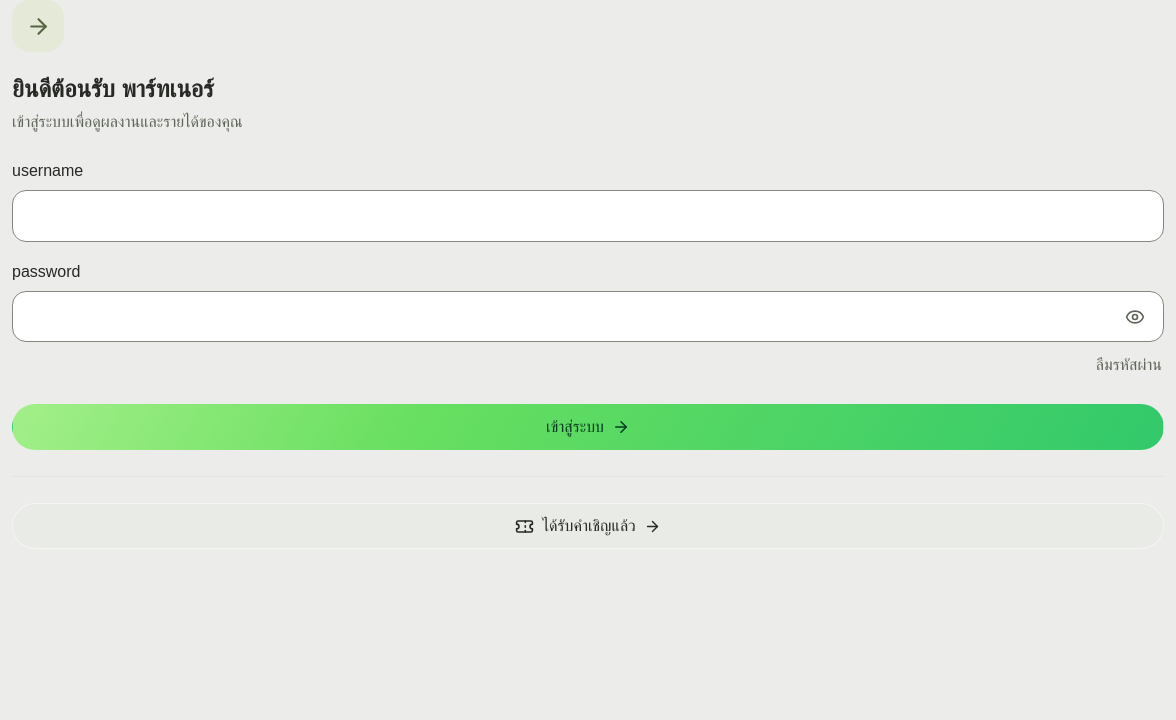
Test case: login and workspace theme defaults › resets to Day only after successful sign-in (success=false)
The width and height of the screenshot is (1176, 720).
Type "partner" into the field labelled "username". click: (588, 216)
box: left=12, top=190, right=1164, bottom=242
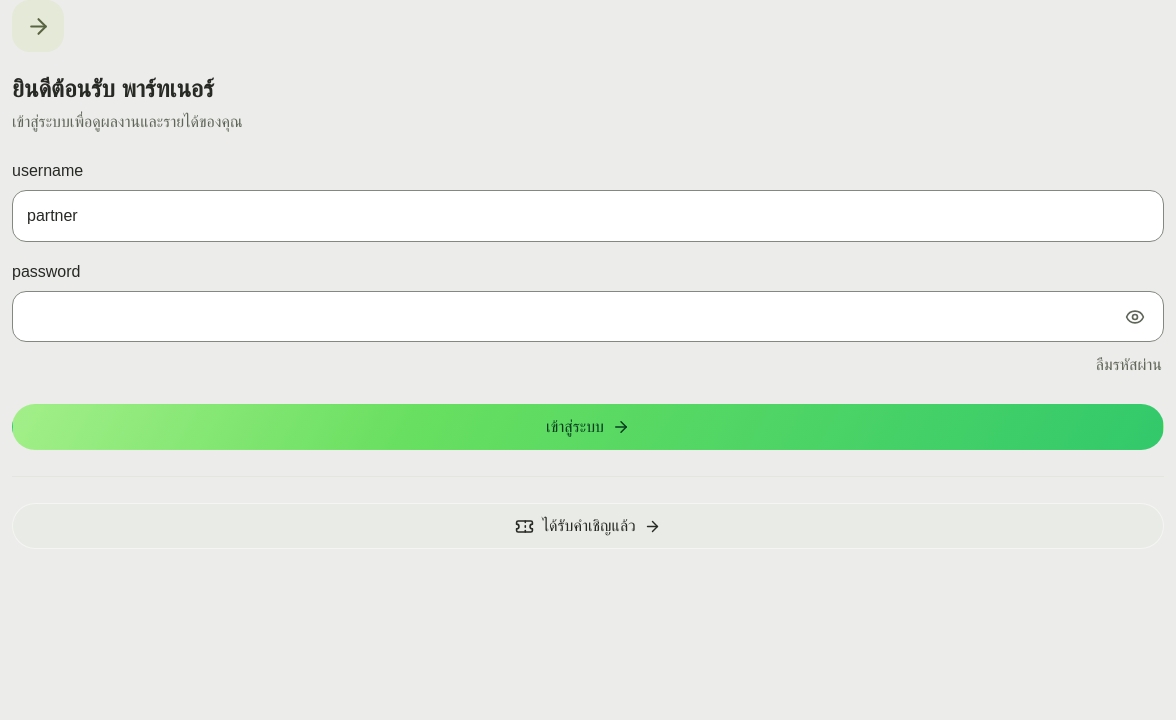
Type "test-password" into the password field labelled "password". click: (588, 317)
box: left=12, top=291, right=1164, bottom=342
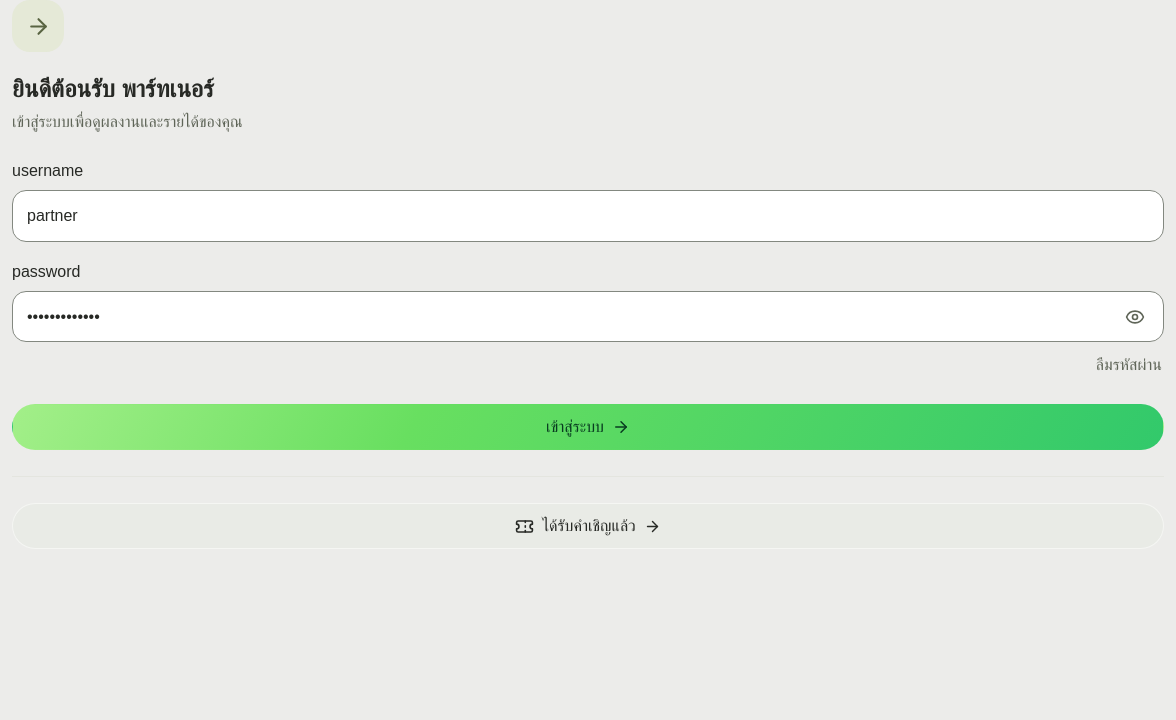
Submit the form "เข้าสู่ระบบ", box left=12, top=160, right=1164, bottom=450
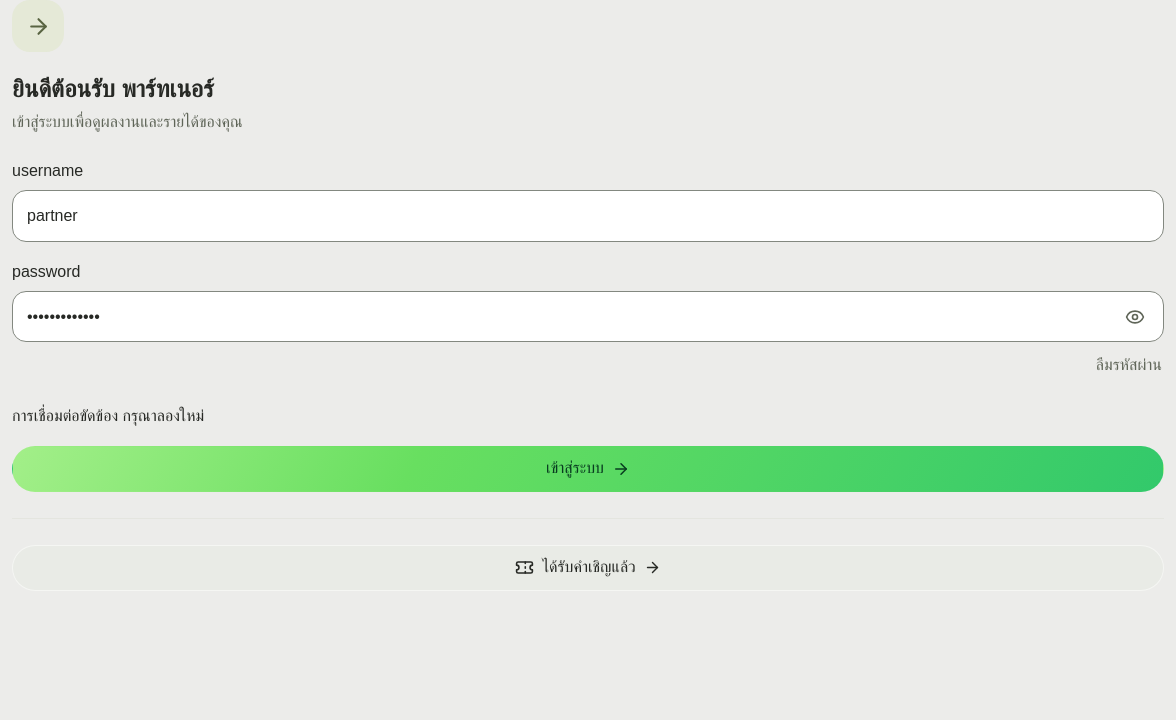
Result: the message "การเชื่อมต่อขัดข้อง กรุณาลองใหม่" is shown at left=12, top=407, right=204, bottom=424
